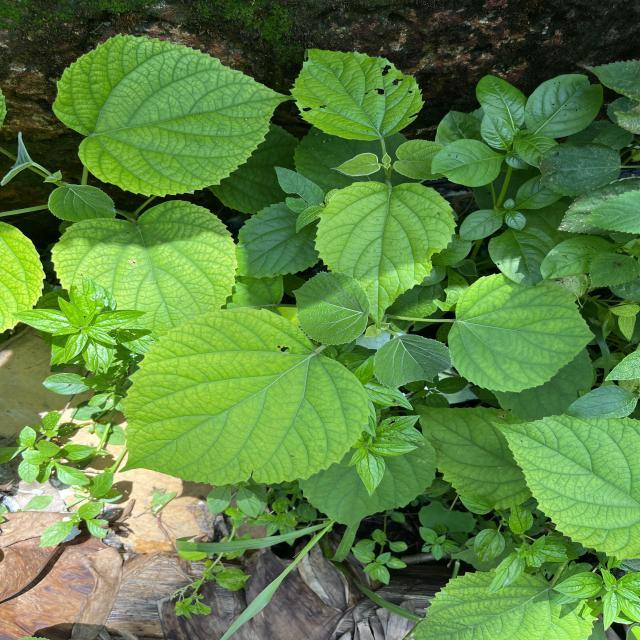Clerodendrum infortunatum: (114, 305, 377, 487), (49, 31, 299, 198), (50, 198, 238, 320), (487, 414, 640, 562), (312, 178, 458, 326), (448, 270, 598, 394), (288, 44, 426, 142), (289, 270, 376, 348)
